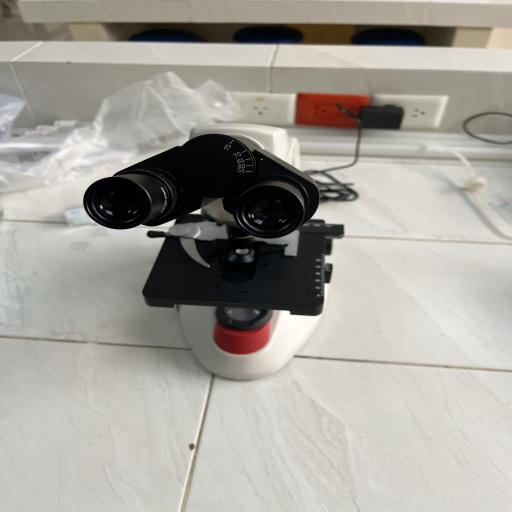Microscopio_Binocular: (74, 109, 392, 396)
